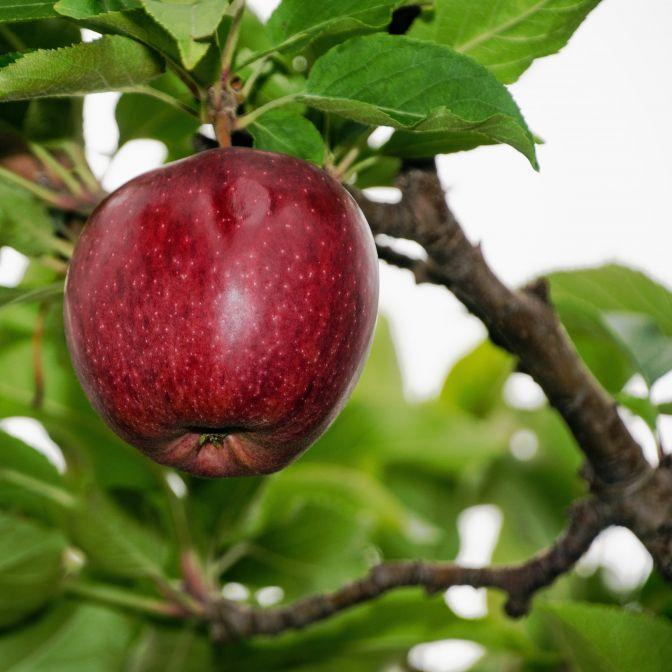apple: (59, 154, 384, 478)
